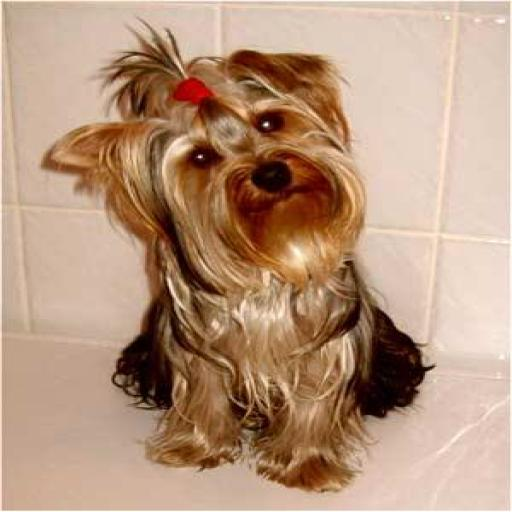dog_face: (46, 46, 345, 256)
